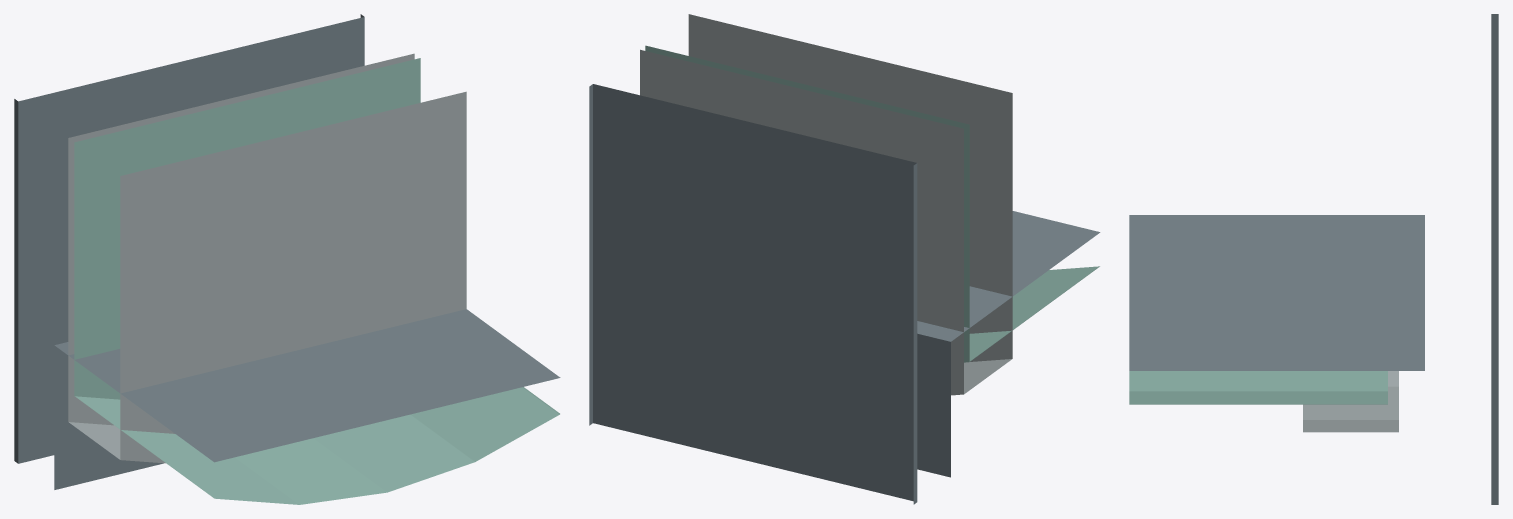
File: cell_52.obj
The picture shows the model from 3 angles, left to right: view 1: azimuth 30°, elevation 25°; view 2: azimuth 150°, elevation 25°; view 3: azimuth 270°, elevation 25°; orthographic projection. The views are drawn at different scales.
Size of the model in its own units: 1 by 1 by 1.
